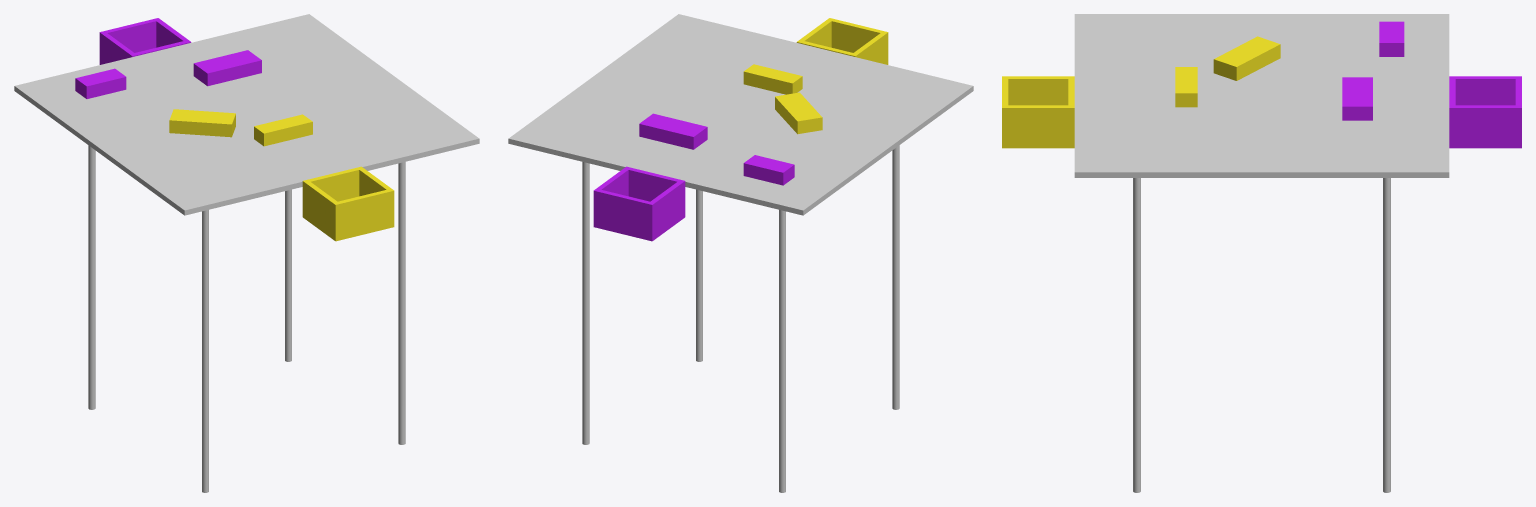
File: mesa.obj
3 renders of one model, left to right at view 1: azimuth 30°, elevation 25°; view 2: azimuth 150°, elevation 25°; view 3: azimuth 270°, elevation 25°, orthographic. The views are drawn at different scales.
Parts seen in each view (by area): view 1: Root|Mesa_(Predeterminado)|Predeterminado|Predeterminado_-_Part, Root|Mesa_(Predeterminado)|Predeterminado|Predeterminado_-_Part_; view 2: Root|Mesa_(Predeterminado)|Predeterminado|Predeterminado_-_Part, Root|Mesa_(Predeterminado)|Predeterminado|Predeterminado_-_Part_; view 3: Root|Mesa_(Predeterminado)|Predeterminado|Predeterminado_-_Part, Root|Mesa_(Predeterminado)|Predeterminado|Predeterminado_-_Part_.
Part boxes in pixels (box(x1,y1,x2,y2)): Root|Mesa_(Predeterminado)|Predeterminado|Predeterminado_-_Part: box(14, 14, 479, 492); Root|Mesa_(Predeterminado)|Predeterminado|Predeterminado_-_Part_: box(75, 18, 394, 241); Root|Mesa_(Predeterminado)|Predeterminado|Predeterminado_-_Part: box(508, 14, 973, 492); Root|Mesa_(Predeterminado)|Predeterminado|Predeterminado_-_Part_: box(593, 18, 888, 241); Root|Mesa_(Predeterminado)|Predeterminado|Predeterminado_-_Part: box(1074, 14, 1449, 492); Root|Mesa_(Predeterminado)|Predeterminado|Predeterminado_-_Part_: box(1002, 21, 1521, 148).
Bounding box in the file's own units: 0.6 × 0.6349 × 0.832.
